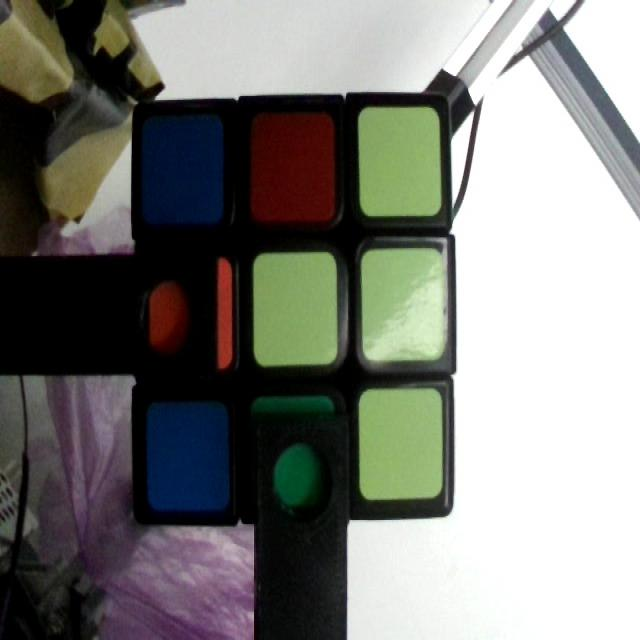b: (150, 405, 225, 511), (145, 119, 223, 218)
g: (256, 399, 336, 512)
o: (146, 256, 235, 371)
r: (254, 113, 337, 219)
y: (362, 250, 445, 358), (256, 254, 336, 362), (363, 395, 445, 497), (362, 114, 439, 214)
